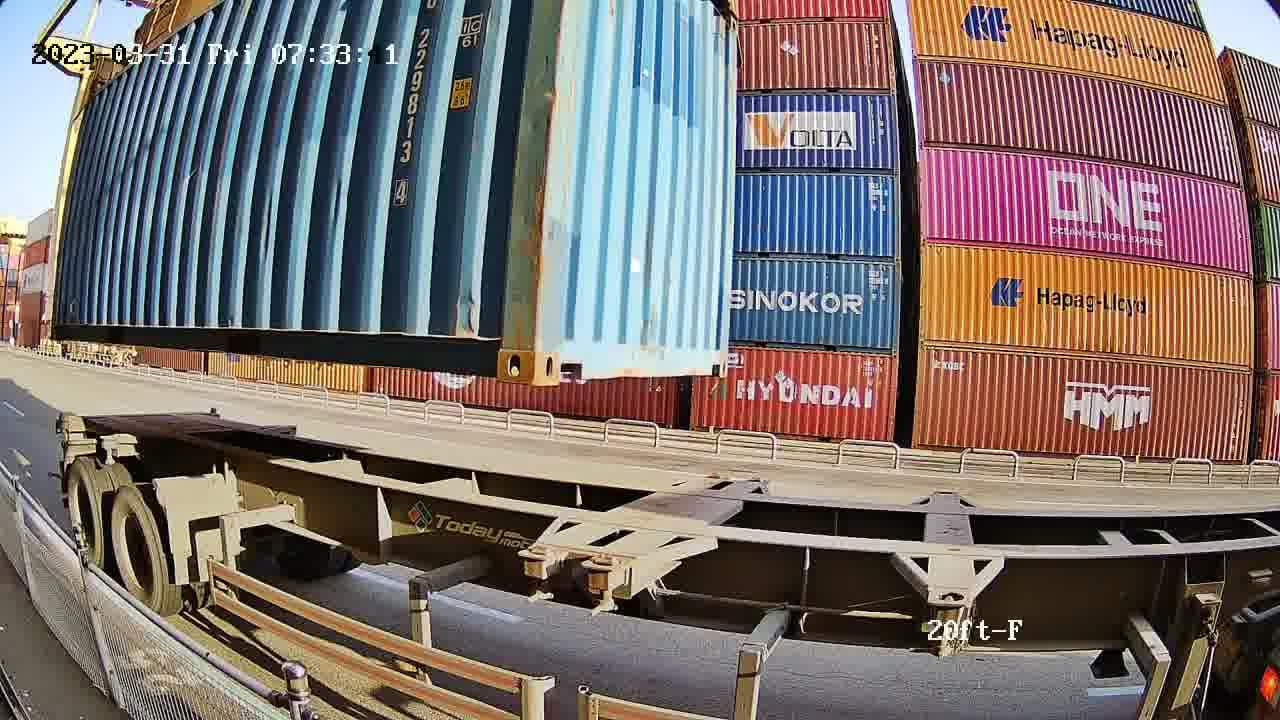Chassis: (523, 475, 723, 558), (583, 480, 768, 567)
Cone: (580, 556, 627, 623), (518, 544, 560, 606)
Hole_L: (533, 324, 592, 386)
Hole_R: (466, 318, 535, 386), (706, 342, 729, 379)
Tire: (110, 486, 168, 614), (70, 462, 105, 575)
